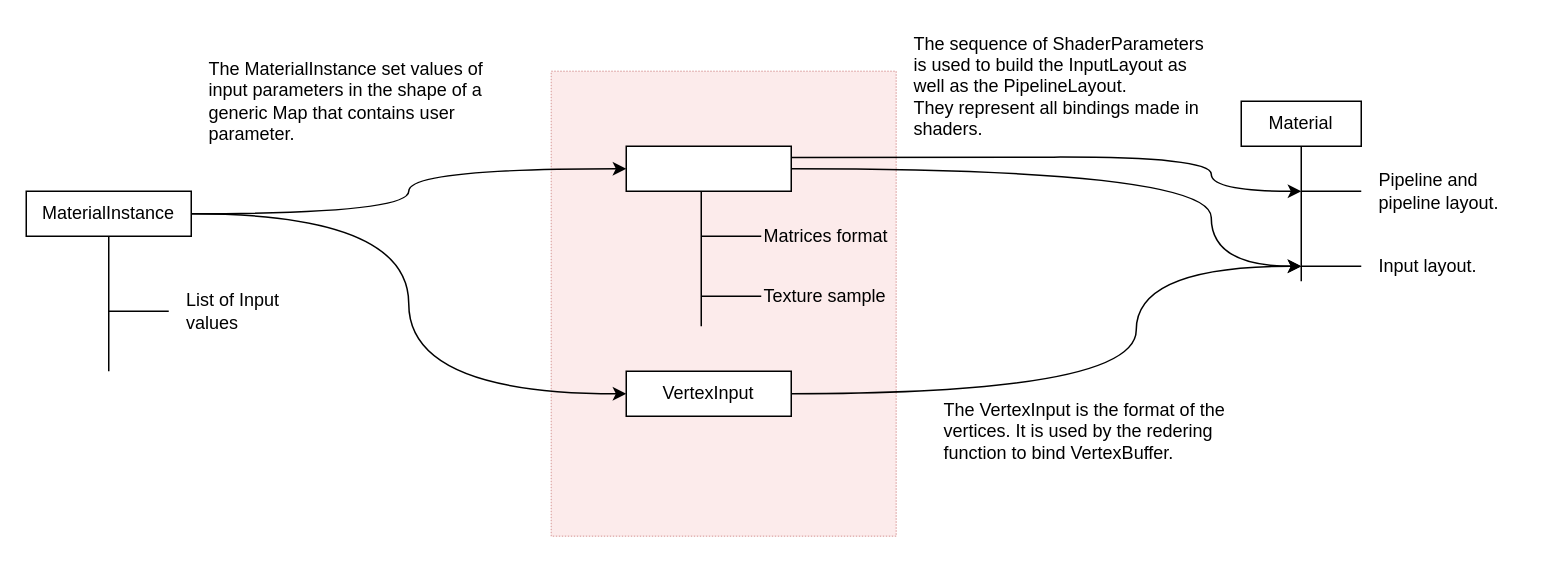
The diagram is 1553 pixels wide and 563 high, and some of its shapes have lost their labels. The box of each missing label's shape, as (x1, y1, x2, y2) in pixels:
Required for instanciating a Material.: (550, 70, 896, 536)
ShaderParameter: (625, 145, 791, 191)
